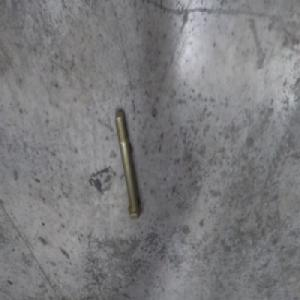Bolt: (114, 109, 141, 220)
